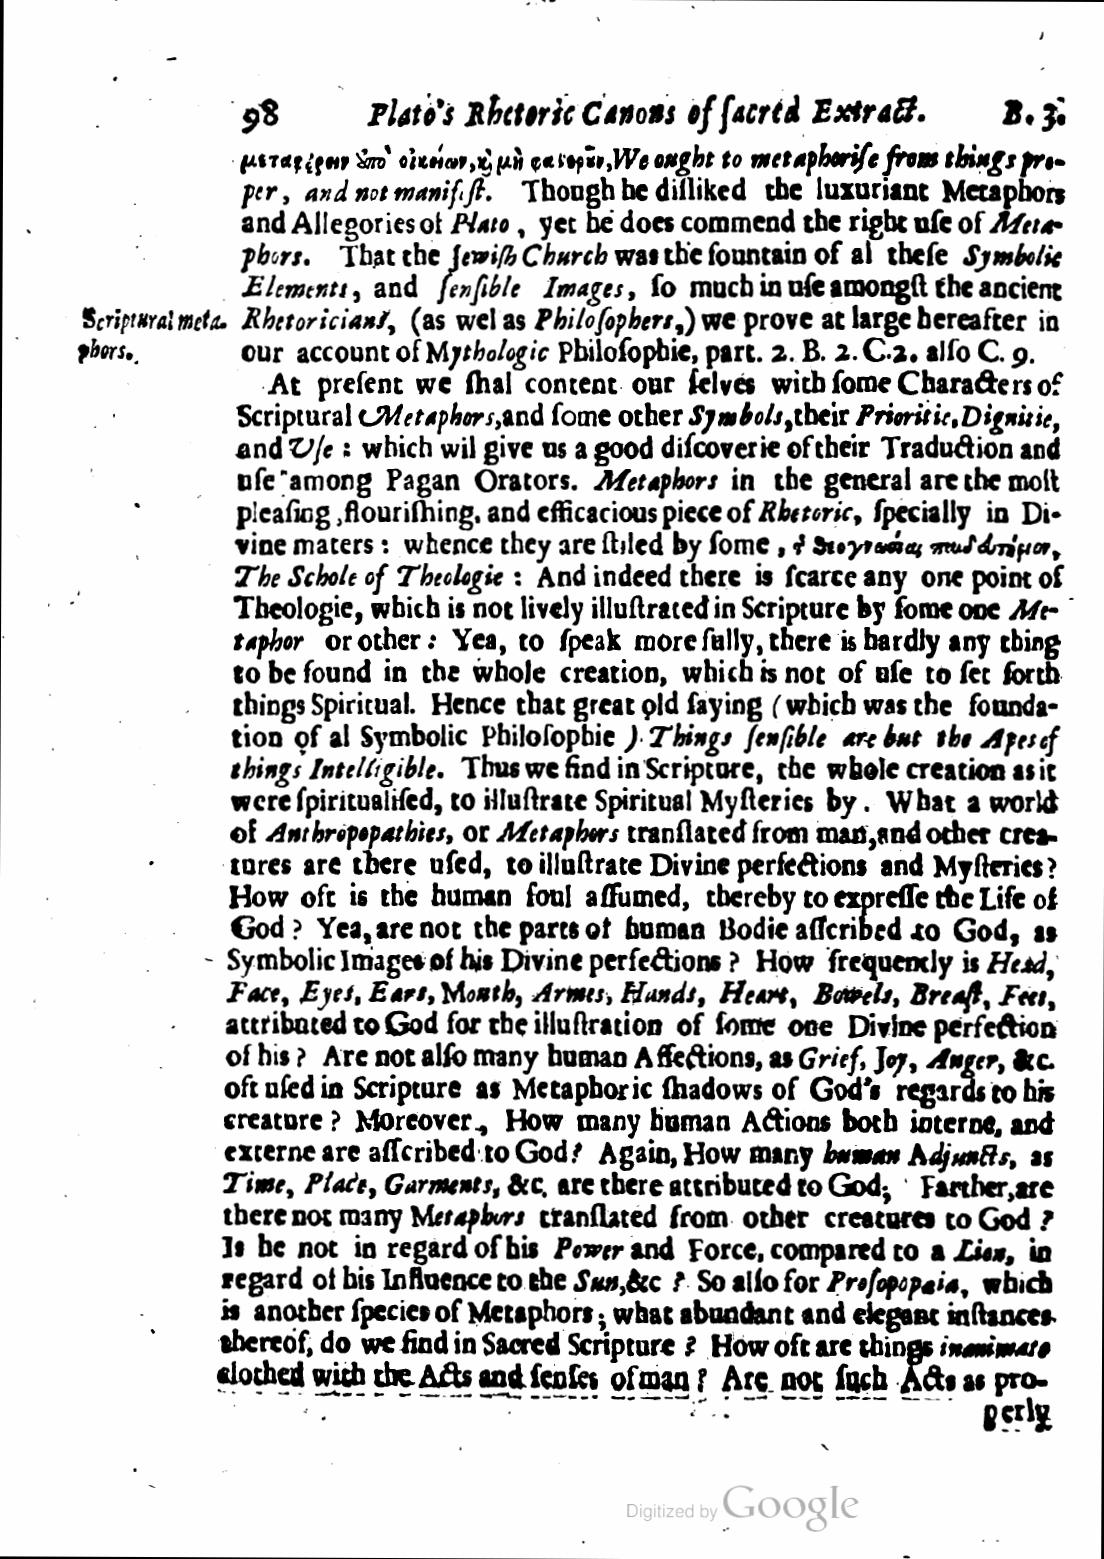bottom_p: (238, 140, 1072, 370)
catchword: (981, 1398, 1060, 1436)
header: (366, 87, 1071, 137)
page_num: (233, 93, 284, 139)
print_marg: (73, 302, 233, 368)
top_p: (211, 370, 1067, 1395)
